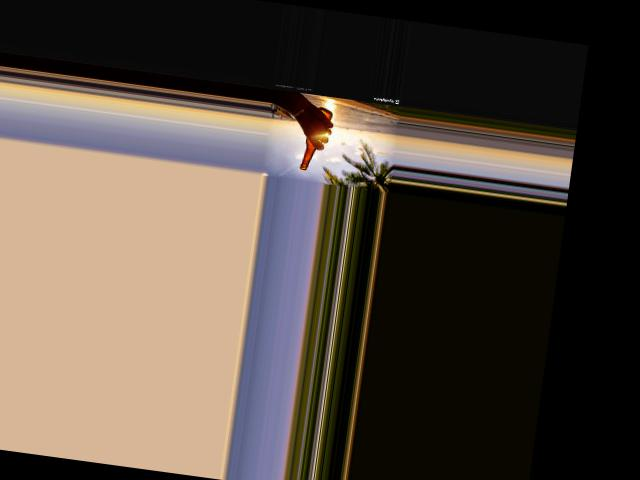beer: (299, 105, 332, 172)
